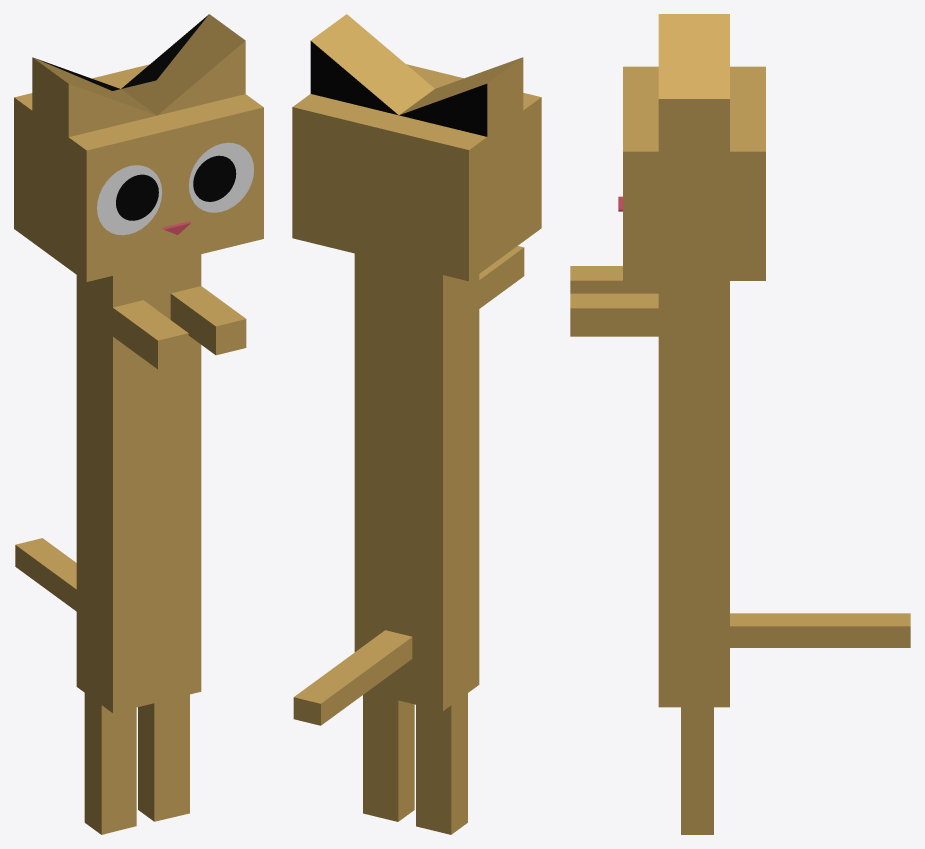
Rendered from LongCato.FBX.
The picture shows the model from 3 angles, left to right: view 1: azimuth 30°, elevation 25°; view 2: azimuth 150°, elevation 25°; view 3: azimuth 270°, elevation 25°; orthographic projection.
Visible parts, largest first — view 1: cat, yeux, Circle; view 2: cat; view 3: cat.
Part boxes in pixels (left/top/right/bottom): cat: left=14, top=14, right=263, bottom=834; yeux: left=97, top=142, right=253, bottom=235; Circle: left=116, top=155, right=236, bottom=220; cat: left=292, top=14, right=541, bottom=834; cat: left=570, top=14, right=910, bottom=834.
Size of the model in its own units: 72.68 by 302 by 123.
